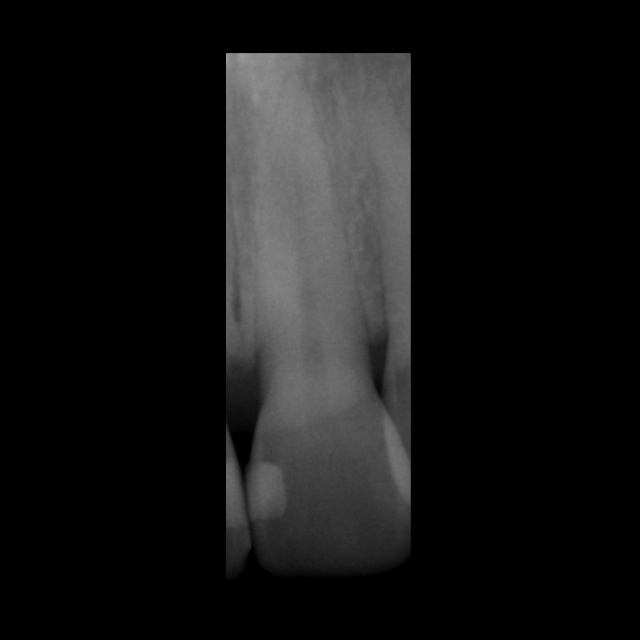tooth: (246, 71, 411, 576)
